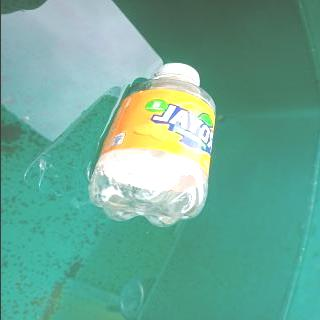bottle: (84, 60, 218, 228)
